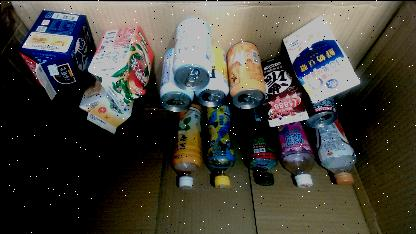Can: (172, 17, 210, 91), (225, 40, 265, 108), (159, 47, 193, 111), (193, 44, 228, 106), (300, 84, 338, 127)
Plastic Bottle: (310, 115, 356, 186), (241, 104, 277, 186), (203, 98, 235, 188), (274, 117, 314, 187), (172, 93, 200, 188)
